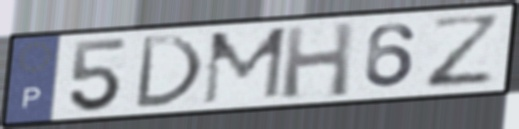5: (65, 36, 130, 114)
6: (364, 22, 418, 90)
D: (131, 33, 207, 110)
H: (279, 19, 356, 101)
M: (199, 24, 290, 107)
Z: (424, 12, 507, 92)
